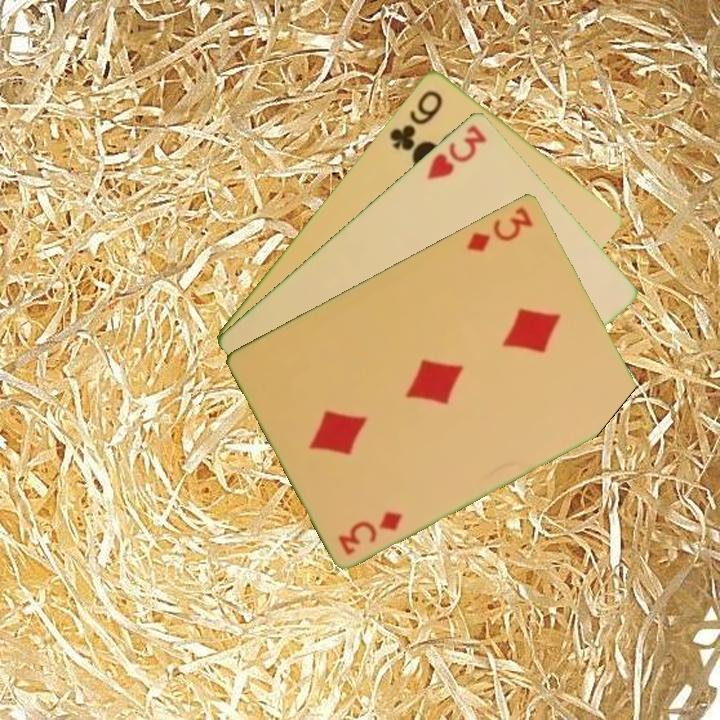3d: (463, 202, 536, 255), (334, 507, 406, 558)
3h: (423, 120, 490, 182)
9c: (385, 85, 446, 153)
